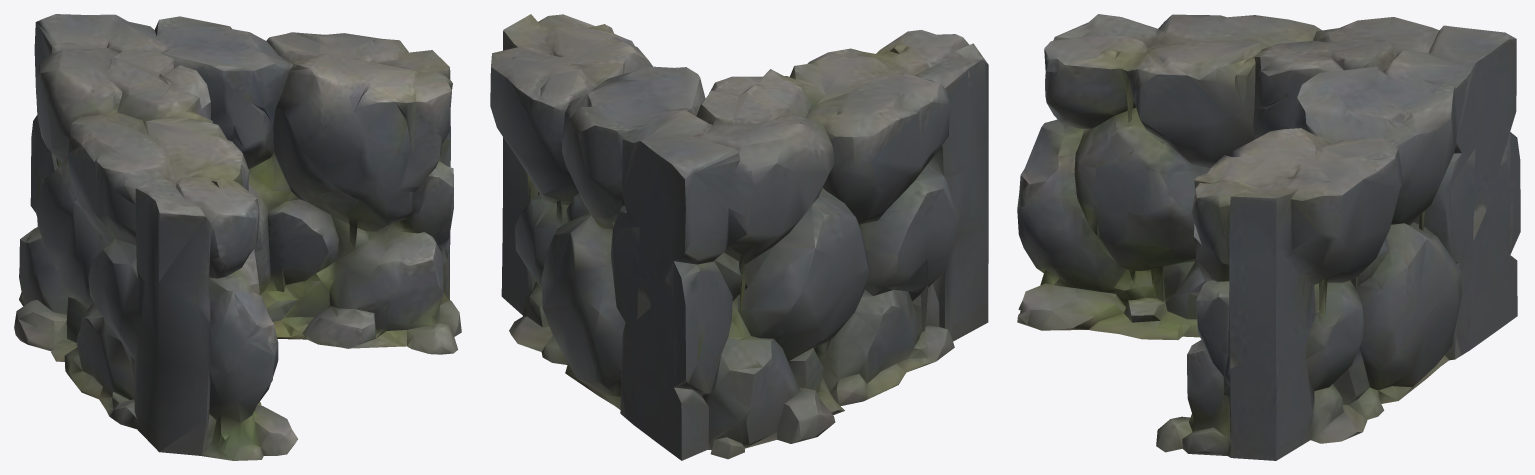
File: cueva_esquina_int_3000.glb
3 views of the same model, side by side, from view 1: azimuth 30°, elevation 25°; view 2: azimuth 150°, elevation 25°; view 3: azimuth 270°, elevation 25° (orthographic). The views are drawn at different scales.
Parts seen in each view (by area): view 1: cueva_esquina_int_malla; view 2: cueva_esquina_int_malla; view 3: cueva_esquina_int_malla.
Part boxes in pixels (left/top/right/bottom): cueva_esquina_int_malla: left=14, top=14, right=461, bottom=460; cueva_esquina_int_malla: left=490, top=14, right=988, bottom=460; cueva_esquina_int_malla: left=1017, top=14, right=1520, bottom=460.
Size of the model in its own units: 0.4276 by 0.3067 by 0.4799.
1 material, 1 textured.
